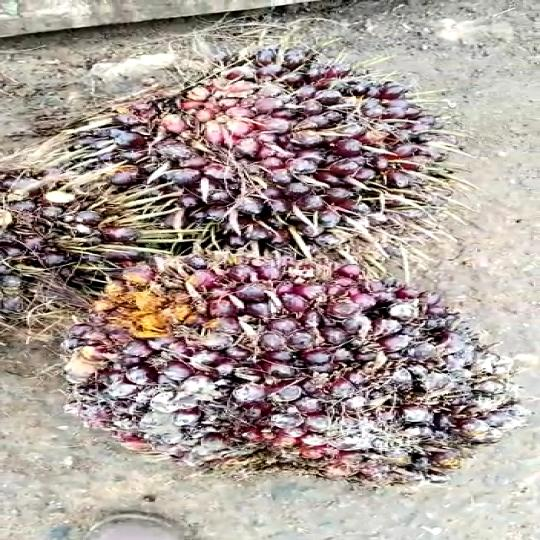kurang masak: (42, 248, 516, 483), (71, 43, 469, 235), (0, 130, 152, 313)
